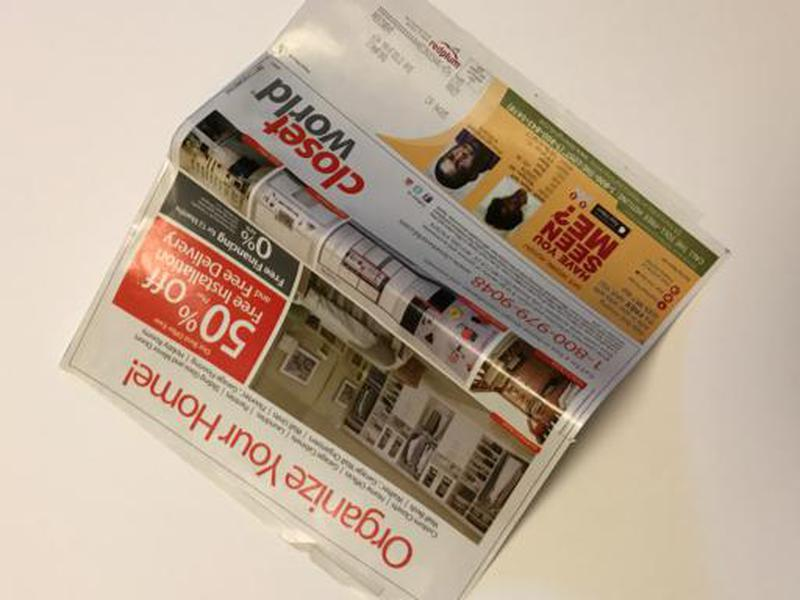paper: (56, 1, 735, 600)
